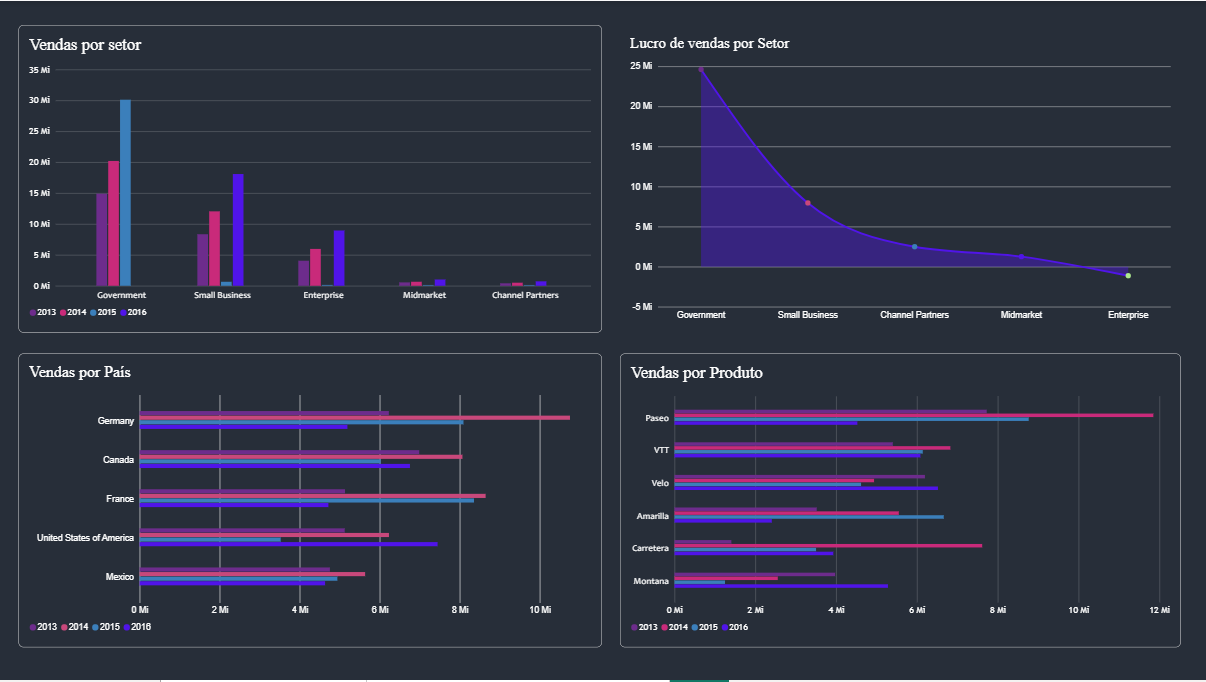

What the dashboard file says about the page in this screenshot:
{"tool":"powerbi","page":{"name":"Customer e Segment Analysis","canvas":[1920,1080],"ordinal":1},"visuals":[{"type":"clusteredColumnChart","title":"Vendas por setor","fields":{"Category":["Sales GERAL.Segment"],"Series":["Sales GERAL.Year"],"Y":["Sum(Sales GERAL. Sales)"]},"box":[31,38.2,928.1,489.1],"z":0},{"type":"clusteredBarChart","title":"Vendas por País","fields":{"Category":["Sales GERAL.Country"],"Series":["Sales GERAL.Year"],"Y":["Sum(Sales GERAL. Sales)"]},"box":[31,560.7,928.1,467.6],"z":1000},{"type":"clusteredBarChart","title":"Vendas por Produto","fields":{"Category":["Sales GERAL.Product"],"Series":["Sales GERAL.Year"],"Y":["Sum(Sales GERAL. Sales)"]},"box":[987.8,560.7,892.3,467.6],"z":2000},{"type":"stackedAreaChart","title":"Lucro de vendas por Setor","fields":{"Category":["Sales GERAL.Segment"],"Y":["Sum(Sales GERAL.Profit)"]},"box":[987.8,38.2,892.3,489.1],"z":3000}]}

Visuals, with their boxes in screenshot pixels (x1, y1, x2, y2), scaled from the page's 1920x1080 canvas onto the 1206x682 screenshot:
"Vendas por setor" clusteredColumnChart: (left=19, top=24, right=602, bottom=333)
"Vendas por País" clusteredBarChart: (left=19, top=354, right=602, bottom=649)
"Vendas por Produto" clusteredBarChart: (left=620, top=354, right=1181, bottom=649)
"Lucro de vendas por Setor" stackedAreaChart: (left=620, top=24, right=1181, bottom=333)
